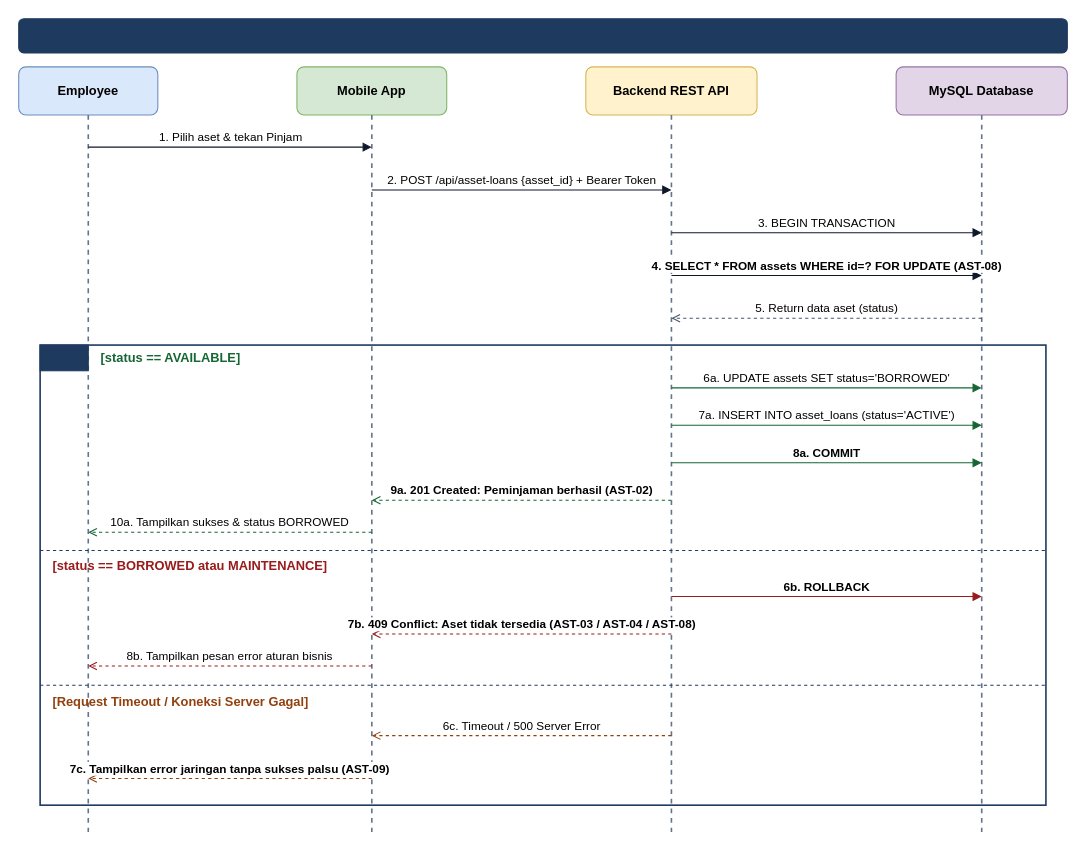
This 1086x853 diagram has some shape labels left out. The shapes that lost their labels are listed below. From the top down, each one's centre as x and y in pixels, then its label:
At [542,35]: "Sequence Diagram — Peminjaman Aset (AST-02, AST-03, AST-04, AST-08, AST-09)".
At [63,357]: "alt".
